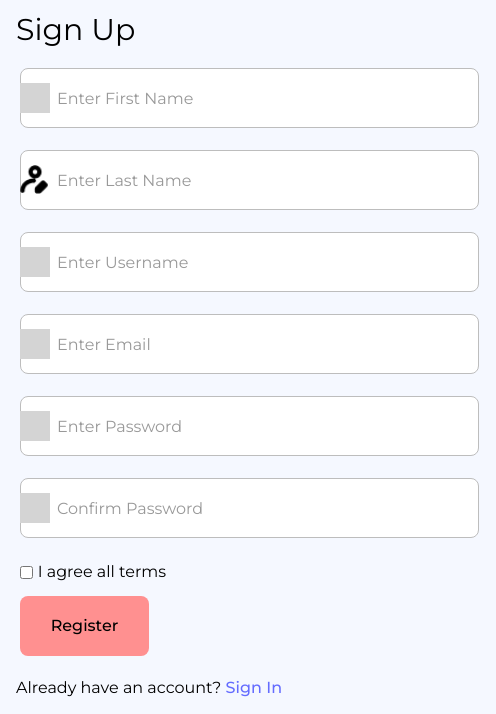
Scenario: RegistrationForm › shows email format error for invalid email
Type "invalid-email" into the field with placeholder "Enter Email". click: (250, 344)
box: [20,314,479,374]
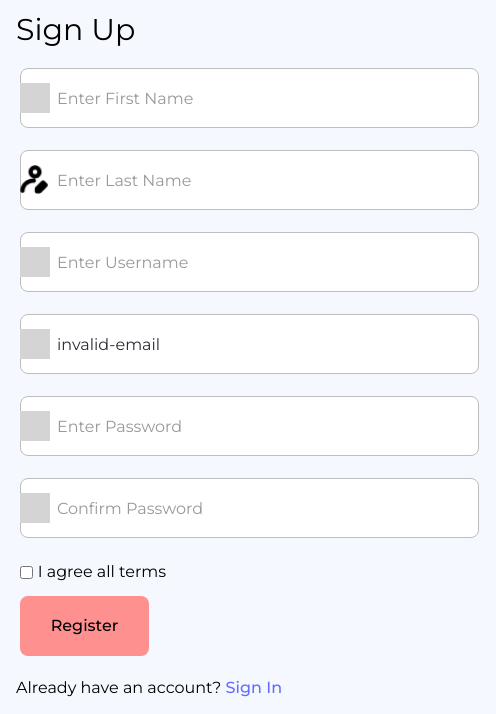
Click the button "Register". click: (84, 626)
box: [20,596,149,656]
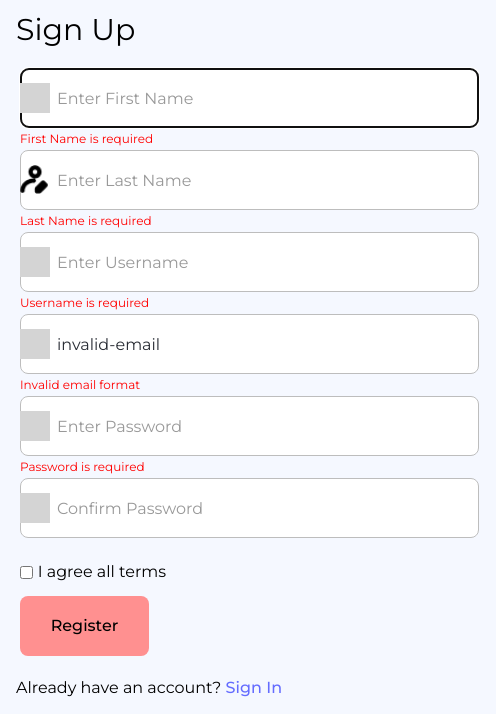
Expected: the text "Invalid email format" is shown, [20,376,140,394]
